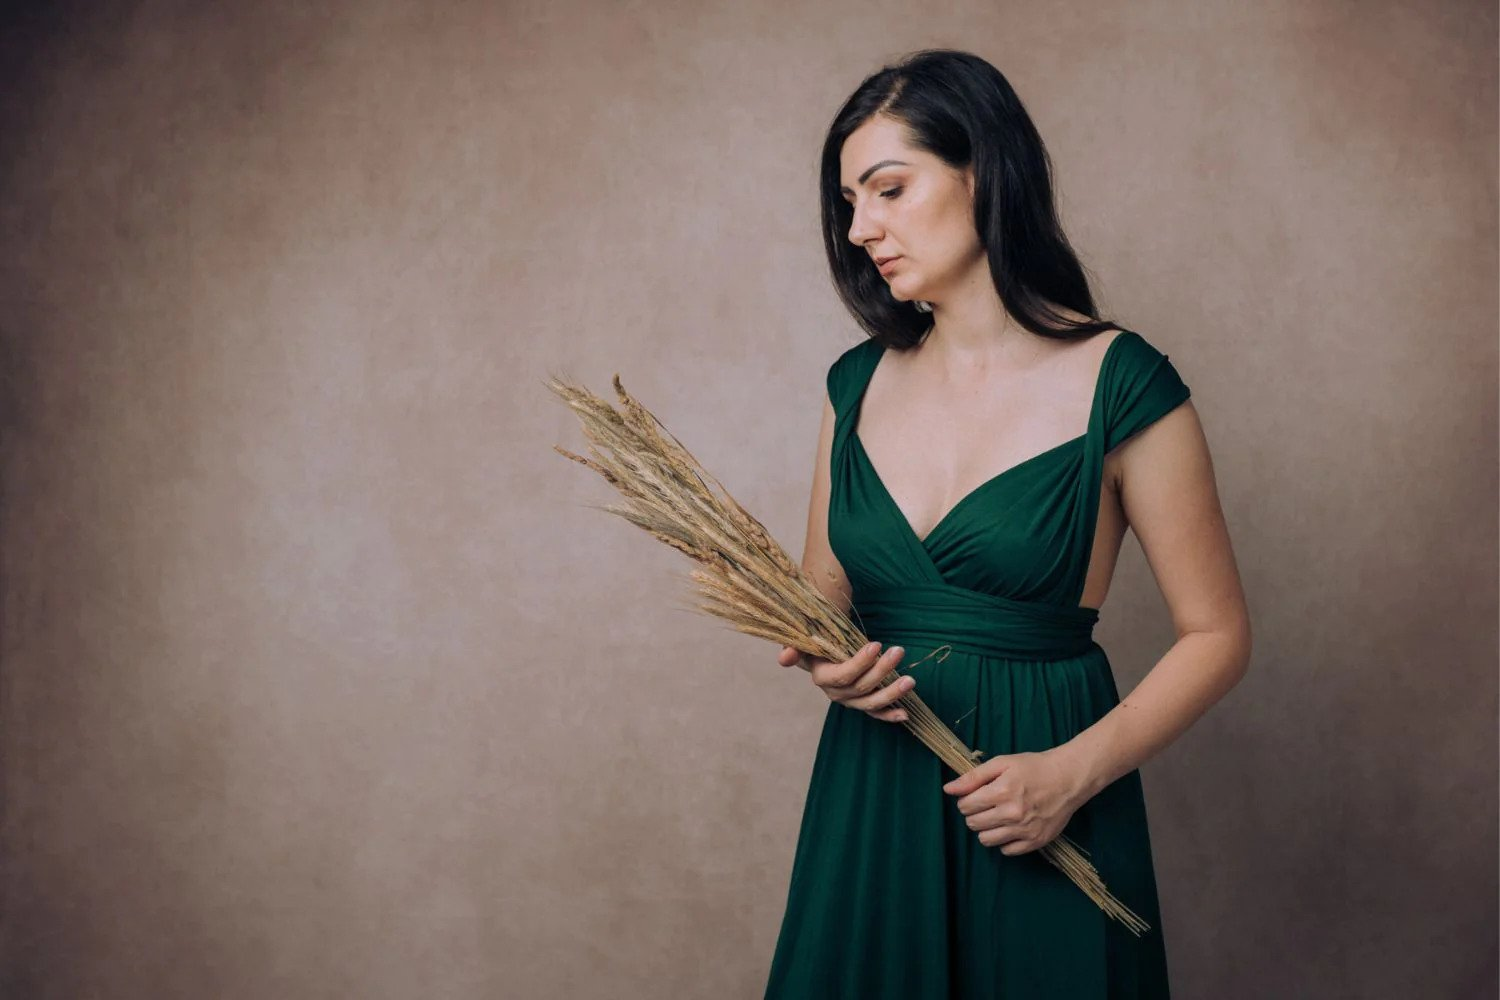height_frame: (734, 41, 1276, 1000)
hip_frame: (812, 766, 1147, 804)
shoulder_frame: (818, 354, 1171, 388)
waist_frame: (850, 605, 1103, 640)
